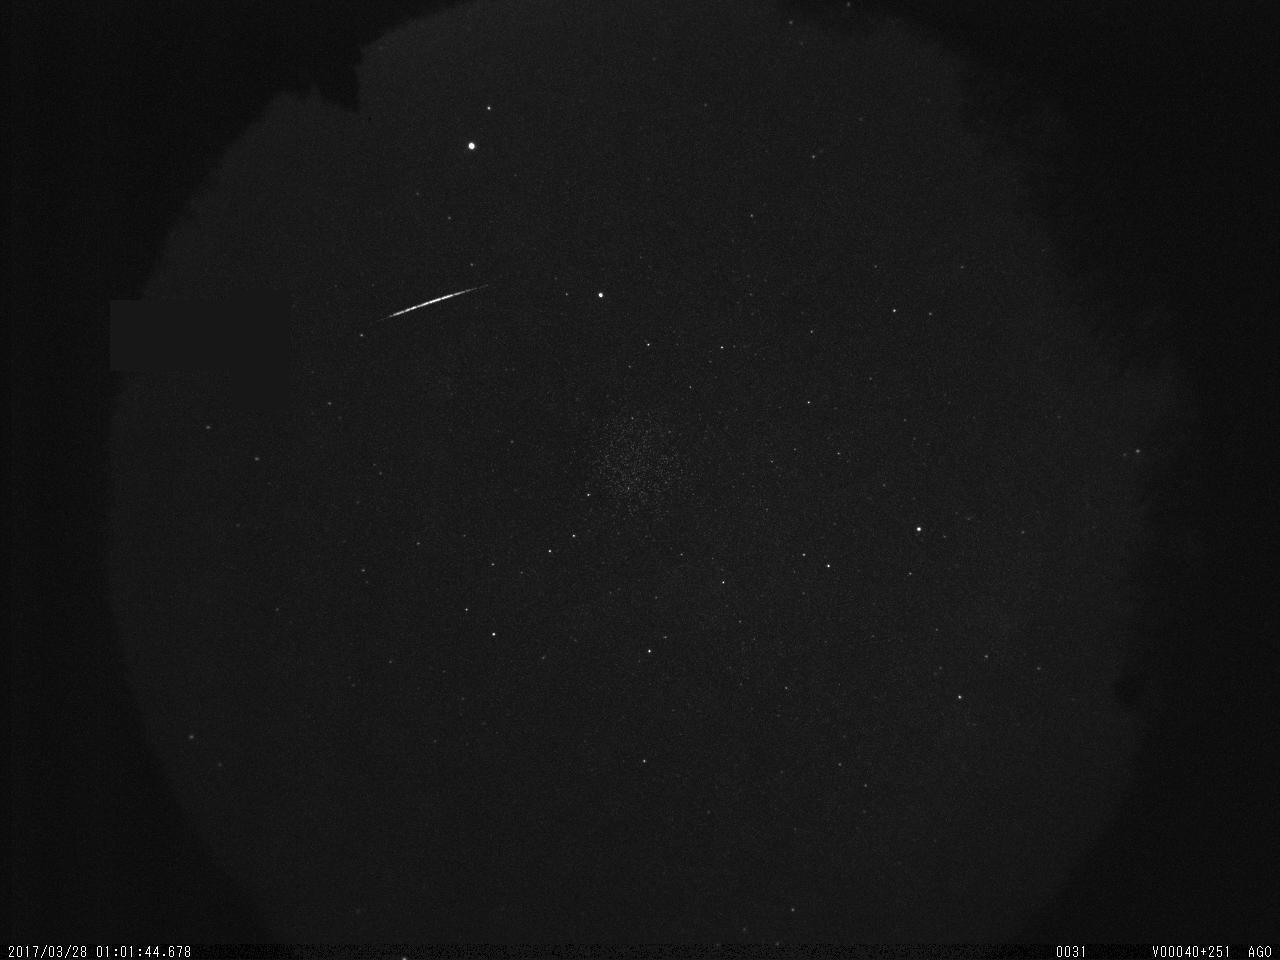meteor: (368, 262, 498, 344)
